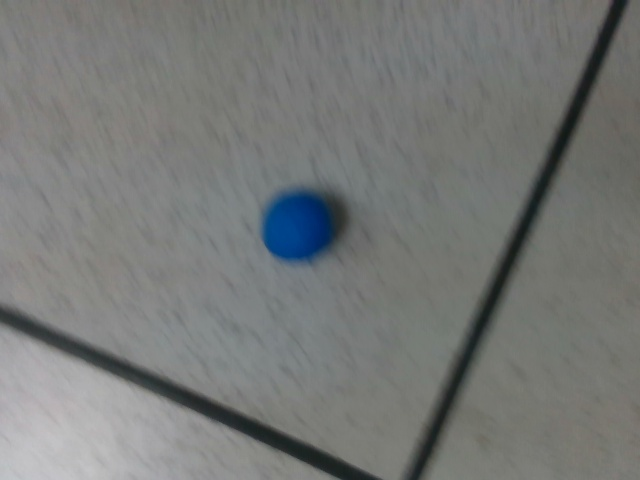blueball: (259, 188, 336, 260)
